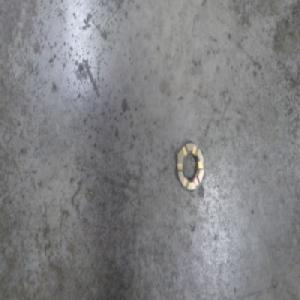Nut: (175, 138, 205, 193)
